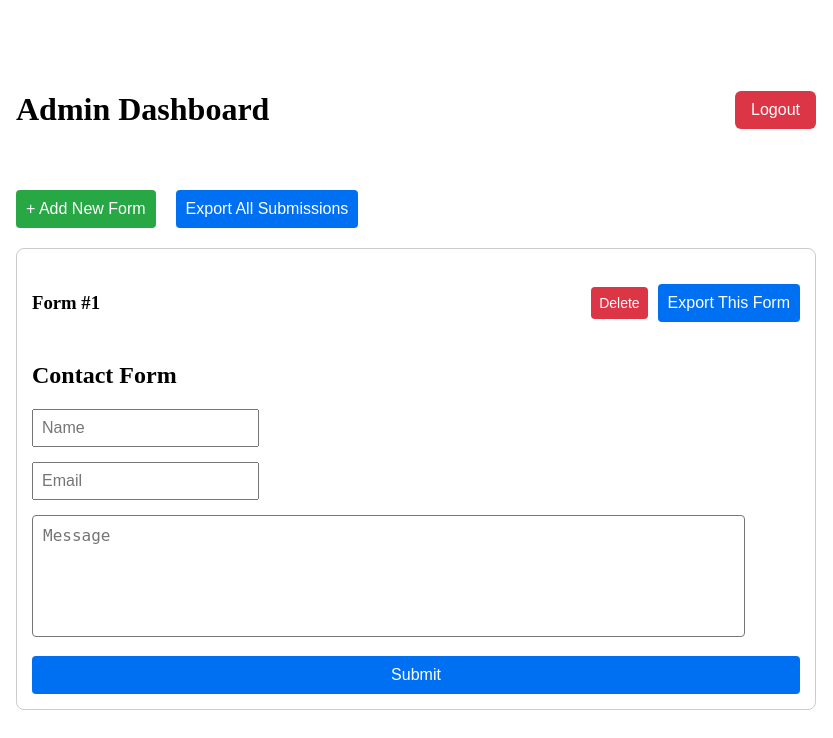
DashboardPage › adds new form when Add New Form clicked
Expected: the heading "Form #1" is shown, [32,292,100,314]
Click the button "+ Add New Form". click: x=86, y=209
box: [16,190,156,228]
(page scrolled)
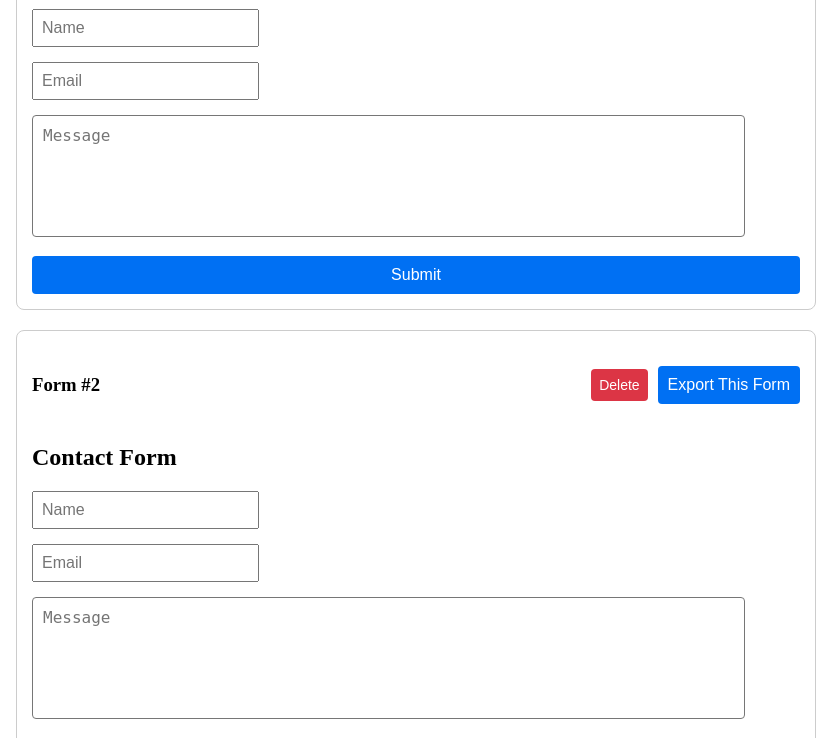
Now the heading "Form #2" is shown, box [32,374,100,396]
